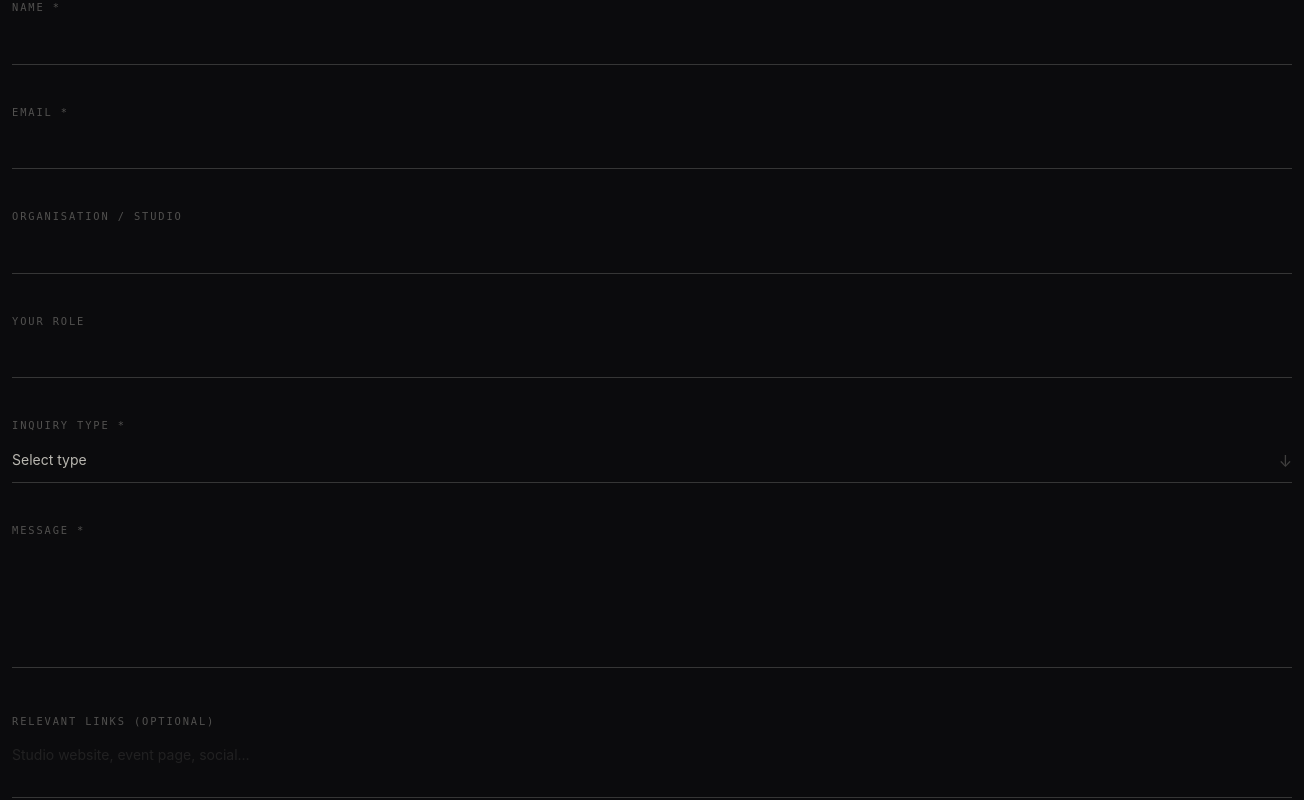
Test: ProfessionalForm › disables submit while submitting
This screenshot has width=1304, height=800.
Step 1. Type "Studio X" into the field labelled "Name *" → (652, 42), box x1=12 y1=20 x2=1292 y2=65
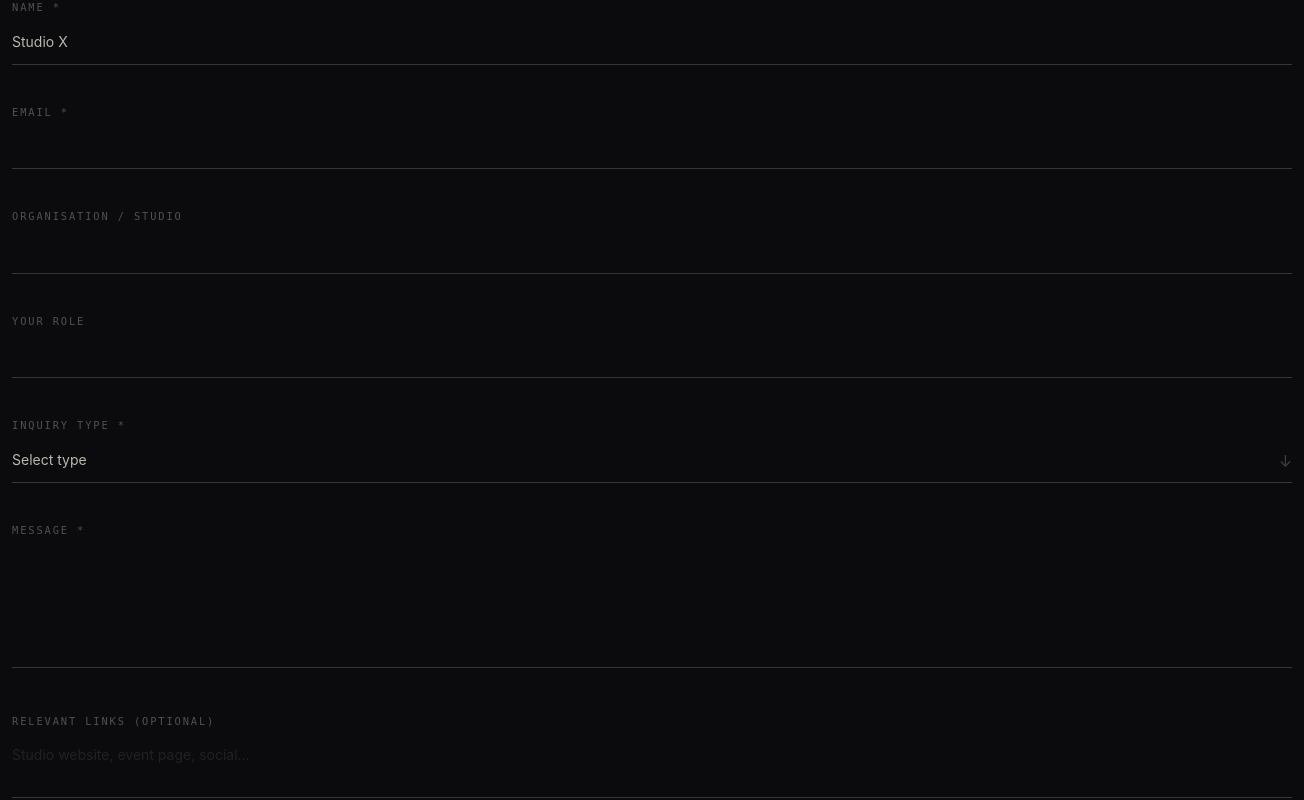
Step 2. Type "studio@example.com" into the field labelled "Email *" → (652, 147), box x1=12 y1=124 x2=1292 y2=169
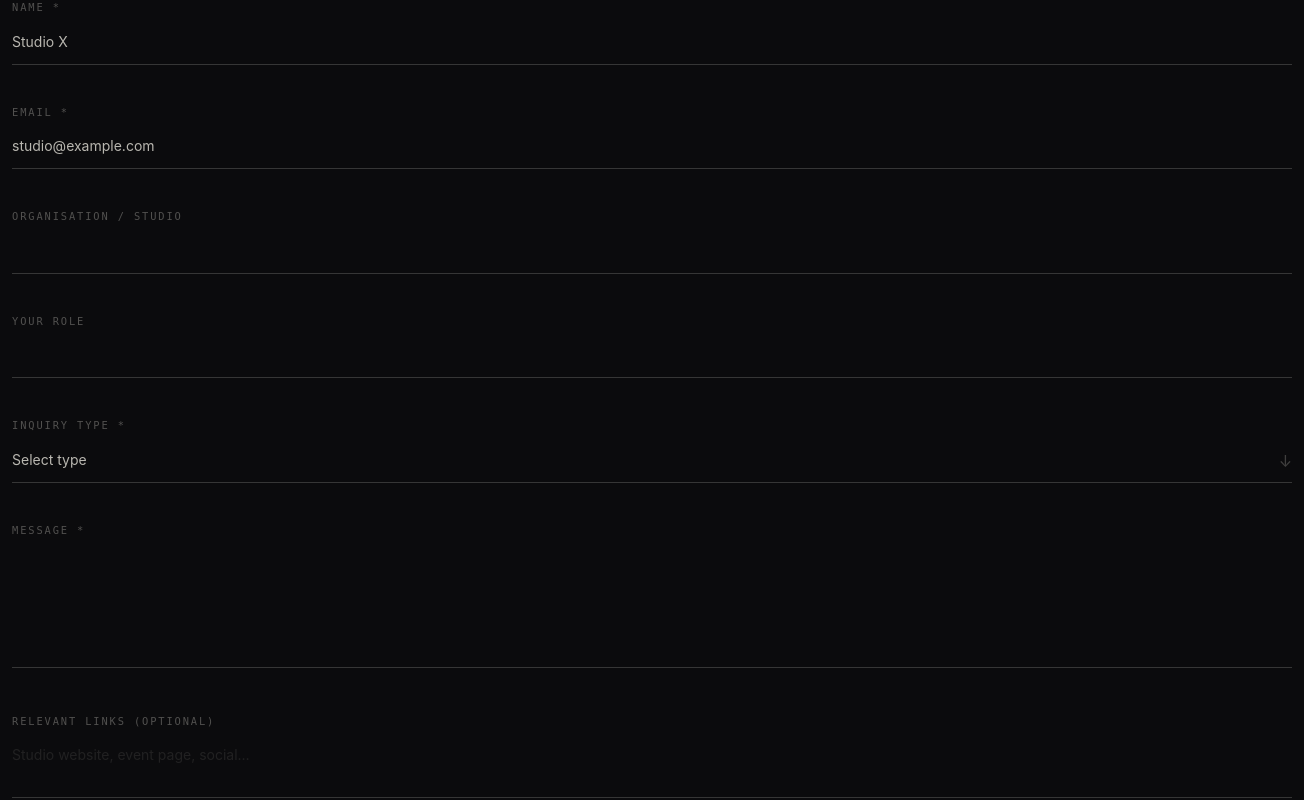
Step 3. Select "Collaboration" in the dropdown labelled "Inquiry type *" → (652, 460), box x1=12 y1=438 x2=1292 y2=483
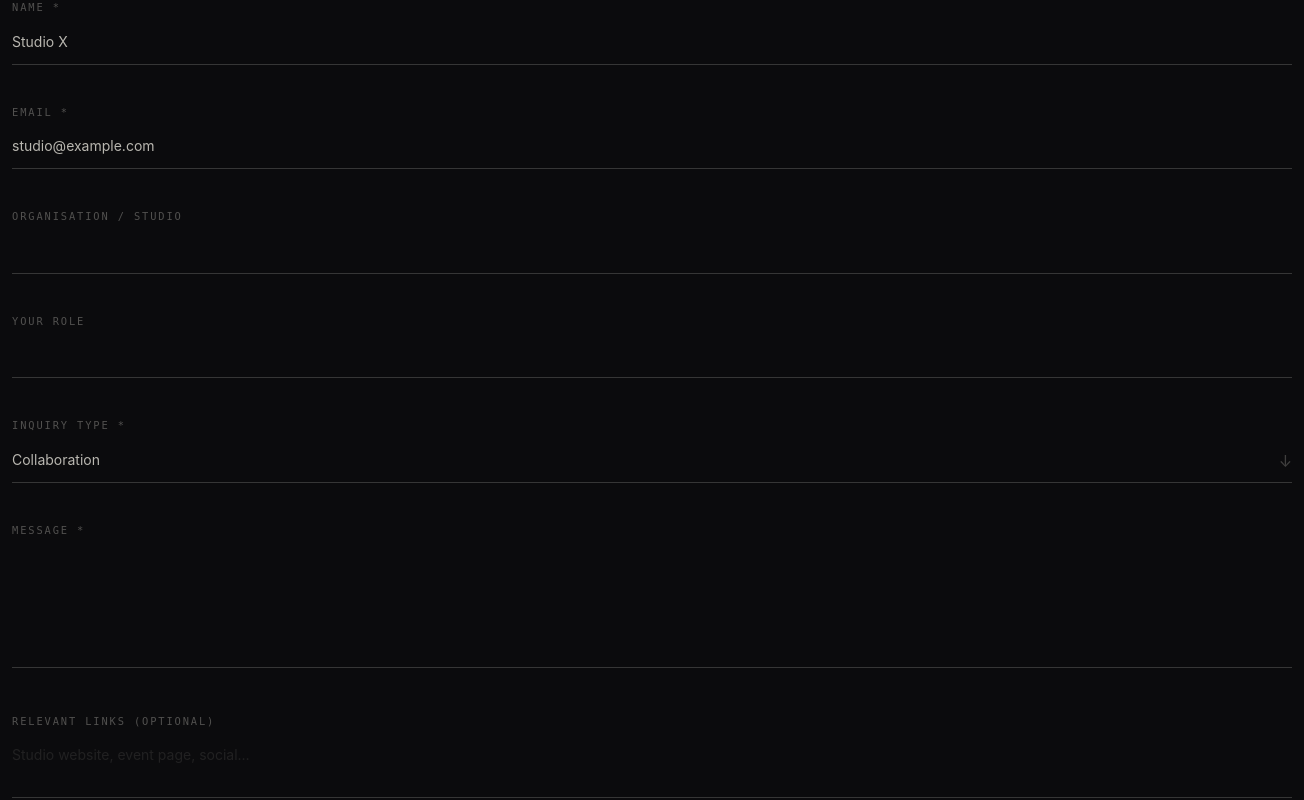
Step 4. Type "We would love to collaborate." into the text box labelled "Message *" → (652, 605), box x1=12 y1=543 x2=1292 y2=668
(page scrolled)
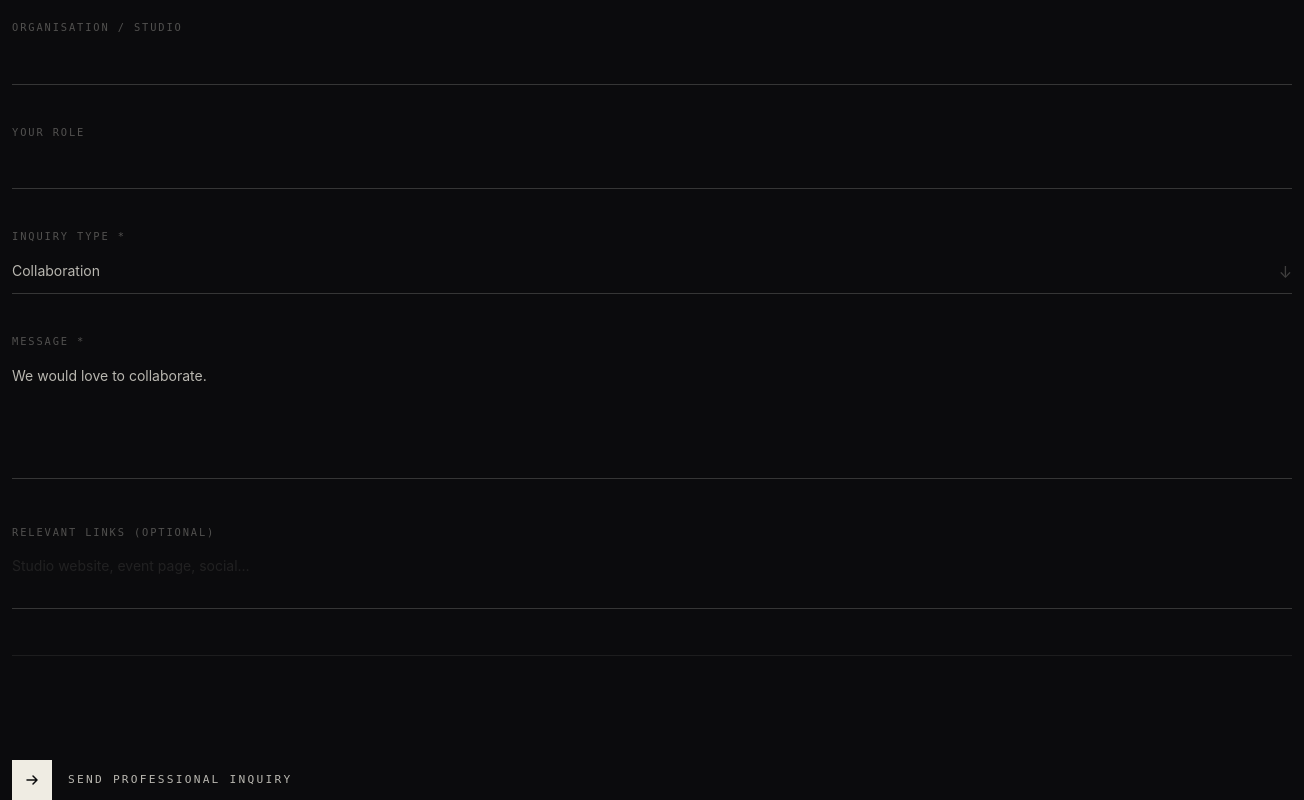
Step 5. Click the button "Send professional inquiry" → (152, 780), box x1=12 y1=760 x2=292 y2=799
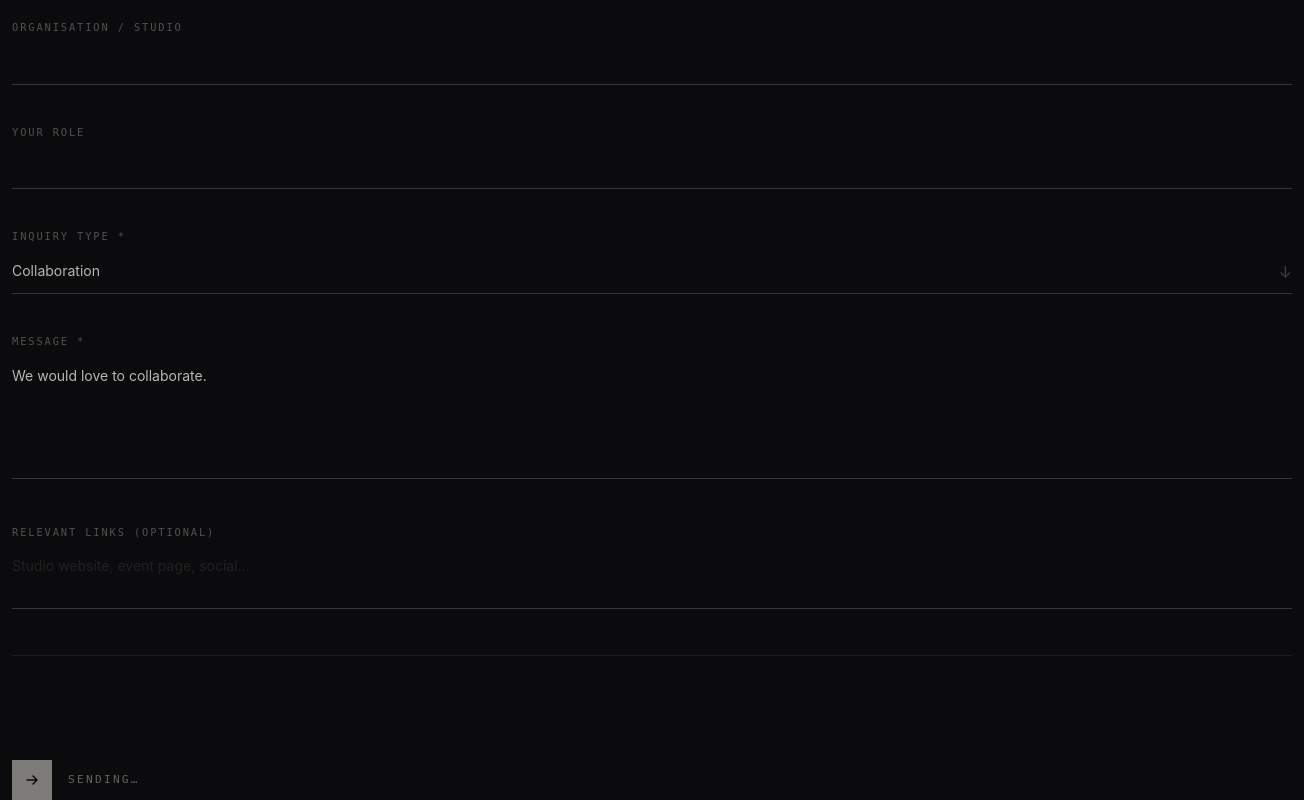
expect the button named "send professional inquiry" is disabled: met, box x1=12 y1=760 x2=140 y2=799
